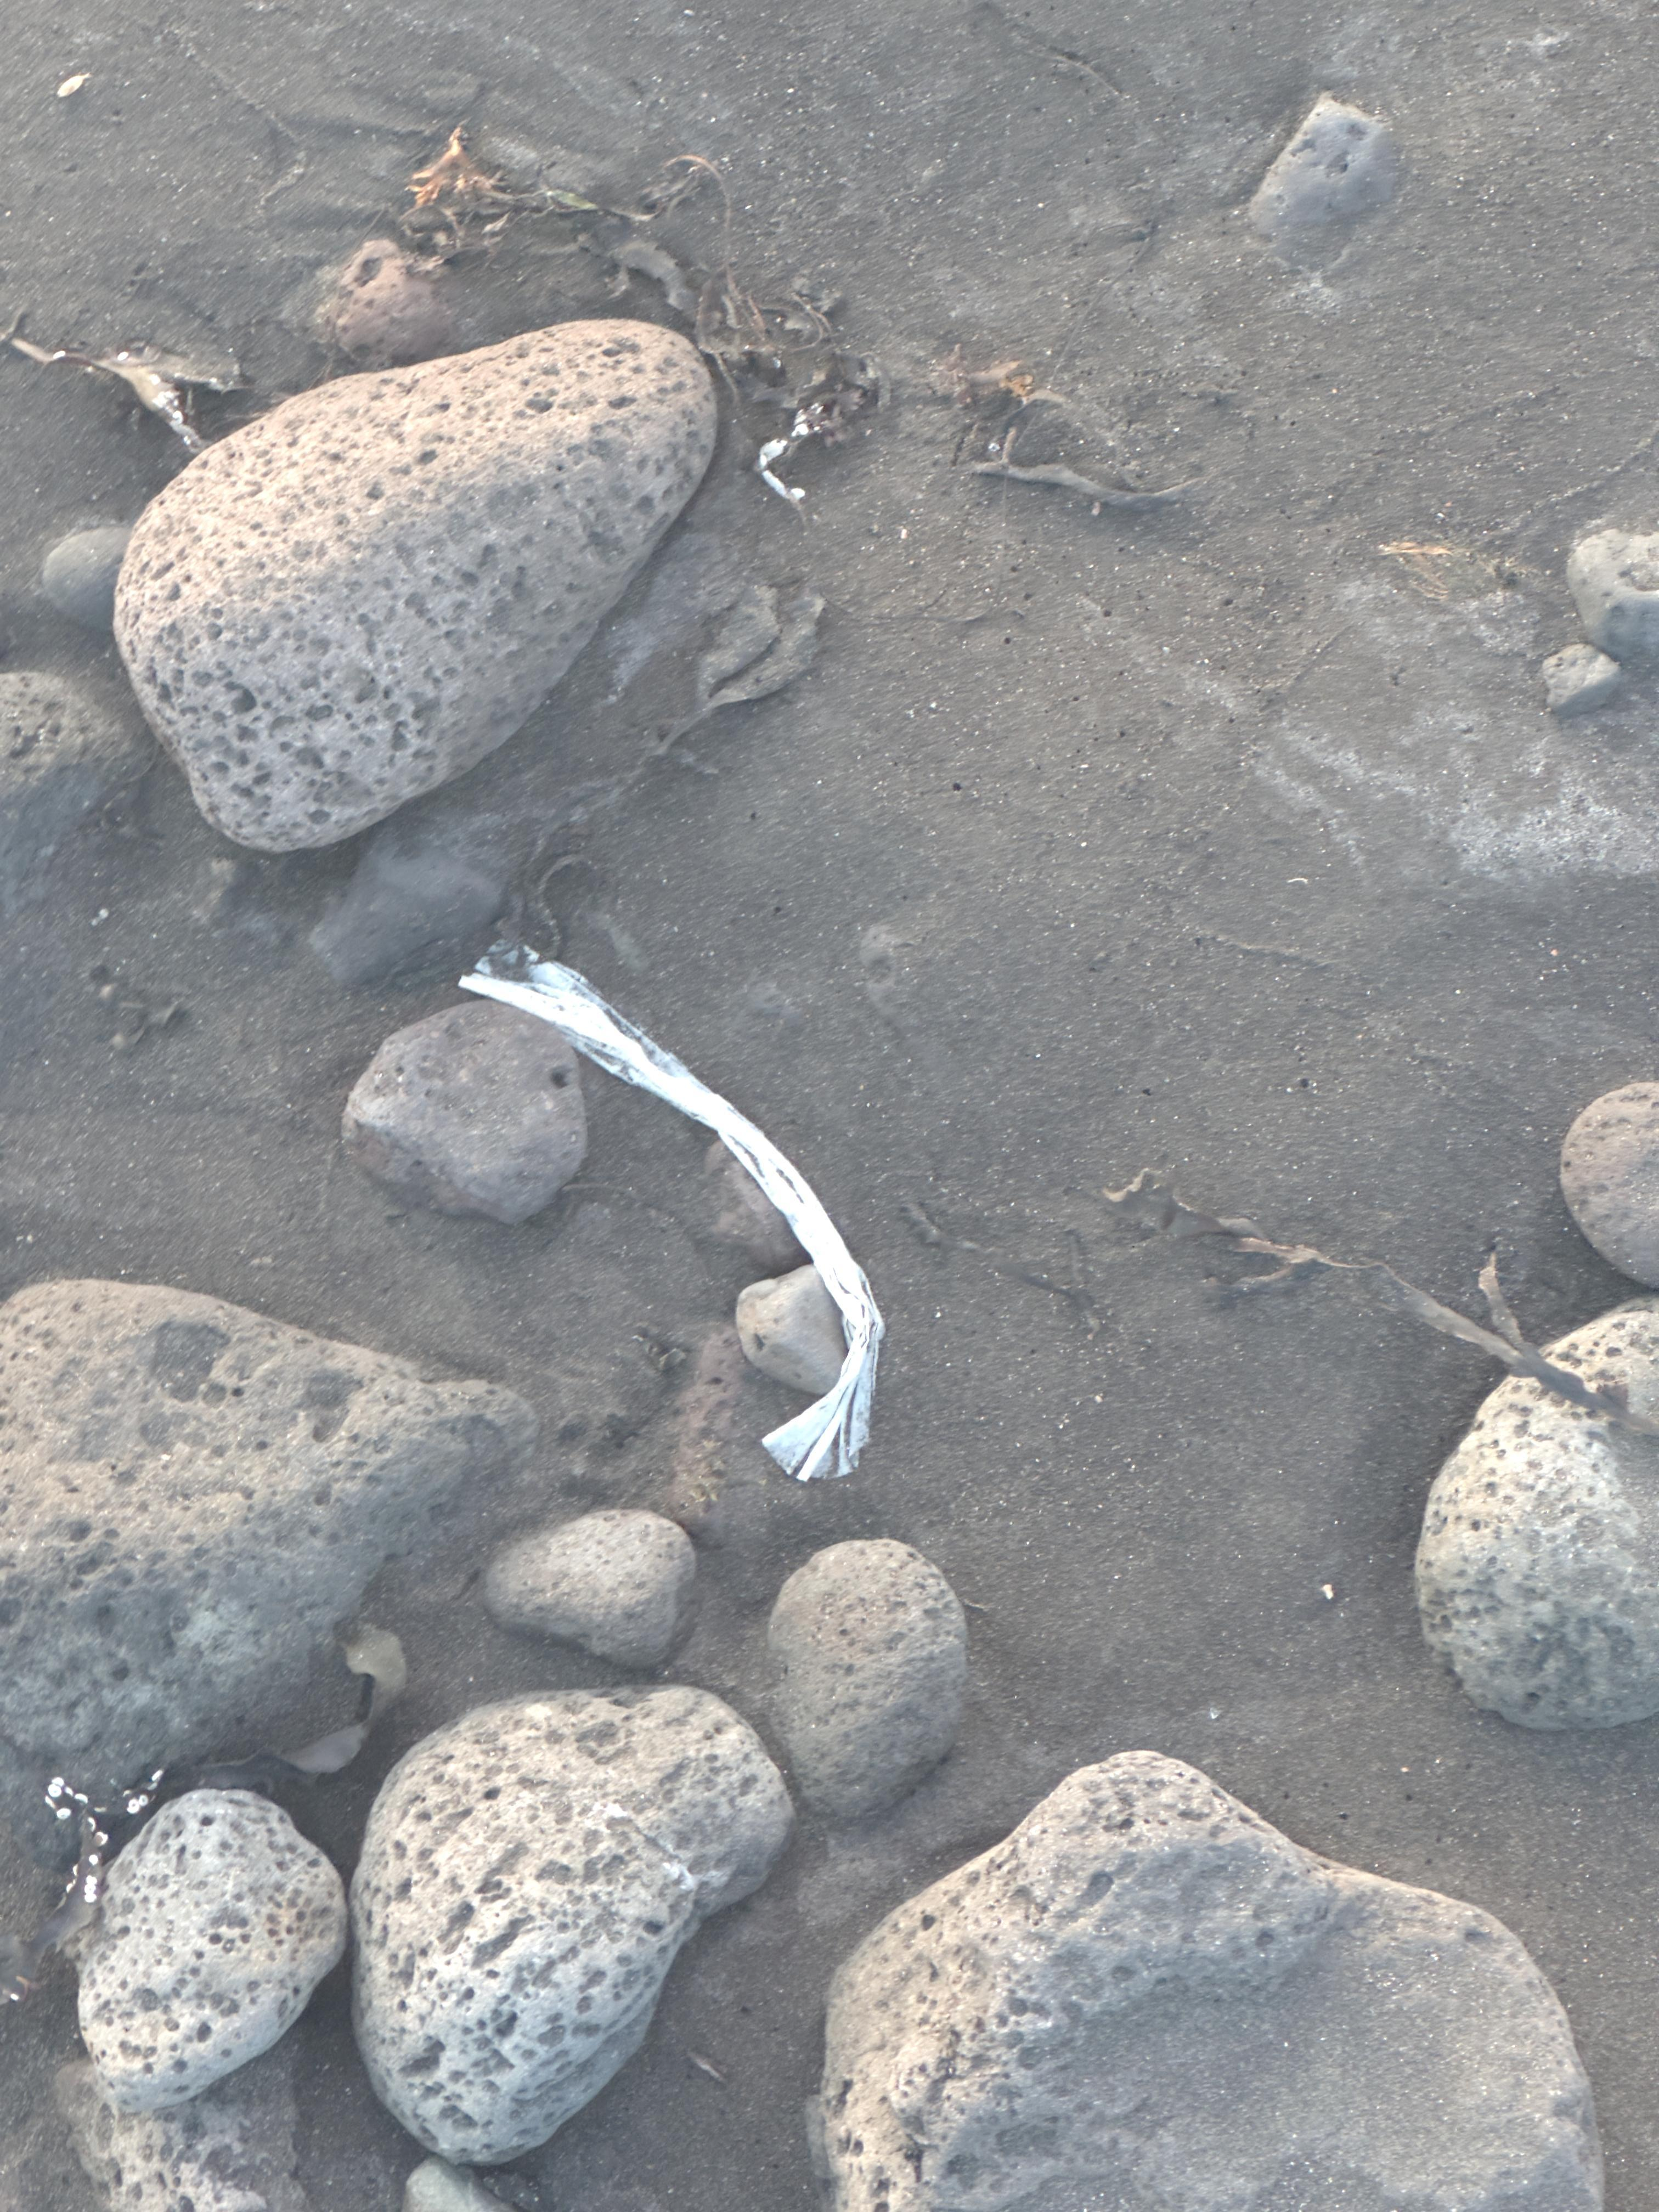trash: (458, 942, 885, 1482)
